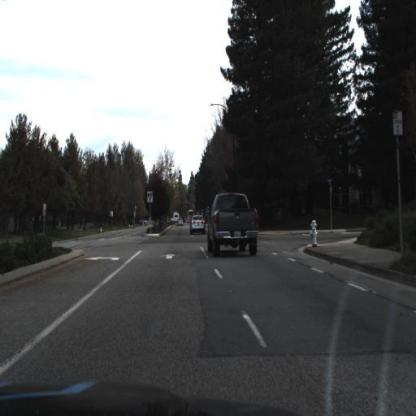car: (206, 191, 263, 258), (190, 214, 207, 239)
